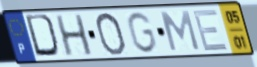D: (24, 13, 63, 60)
E: (190, 8, 230, 53)
G: (125, 10, 159, 55)
H: (54, 13, 95, 58)
M: (159, 9, 202, 52)
O: (93, 11, 128, 57)
